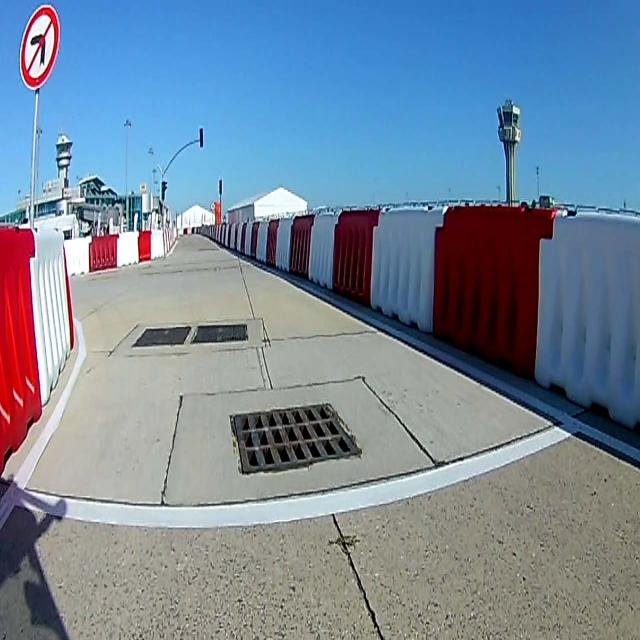soladonulmez: (19, 7, 58, 85)
